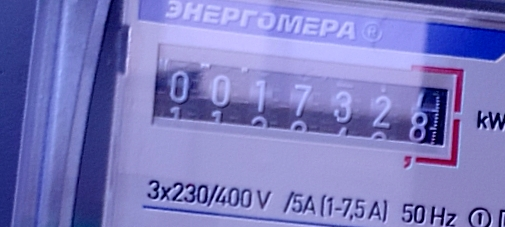0: (167, 67, 193, 106), (209, 73, 232, 109)
1: (251, 77, 270, 114)
2: (369, 94, 393, 132)
3: (330, 89, 355, 126)
7: (287, 81, 315, 120)
8: (406, 109, 429, 145)
screen: (139, 40, 470, 171)
